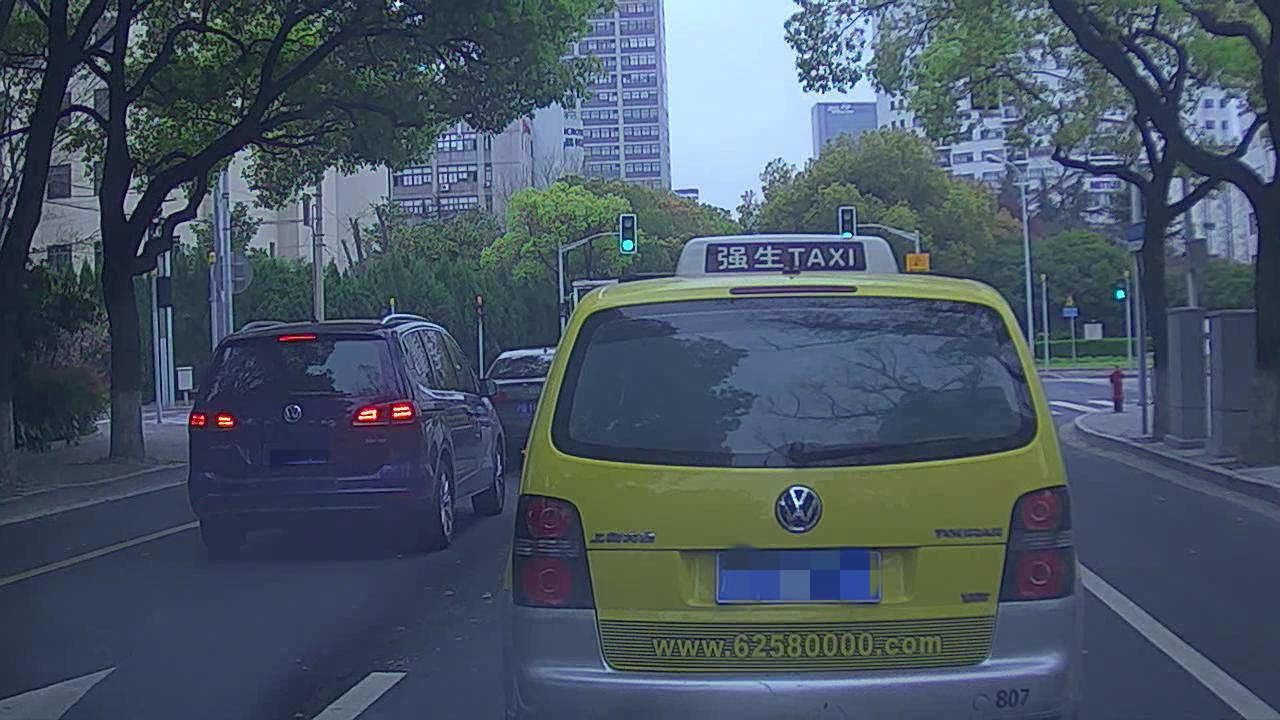traffic_light: (618, 213, 638, 255), (839, 206, 854, 239)
